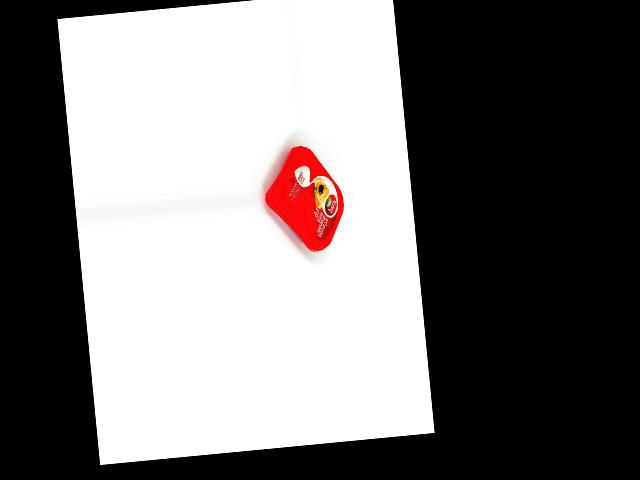cheese: (260, 141, 348, 255)
